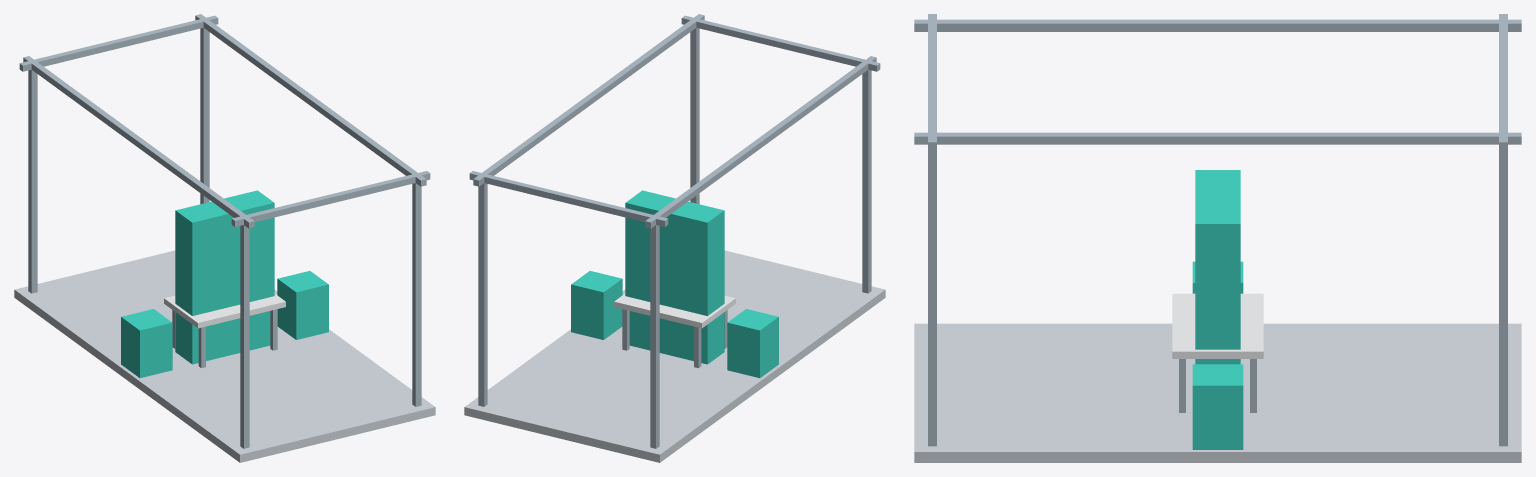
3 views of the same model, side by side, from view 1: azimuth 30°, elevation 25°; view 2: azimuth 150°, elevation 25°; view 3: azimuth 270°, elevation 25° (orthographic). The views are drawn at different scales.
Parts seen in each view (by area): view 1: Exhibition Booth Concept; view 2: Exhibition Booth Concept; view 3: Exhibition Booth Concept.
Part boxes in pixels (left/top/right/bottom): Exhibition Booth Concept: left=14, top=14, right=435, bottom=462; Exhibition Booth Concept: left=464, top=14, right=885, bottom=462; Exhibition Booth Concept: left=914, top=14, right=1521, bottom=462.
Bounding box in the file's own units: 3 × 3.49 × 6.
